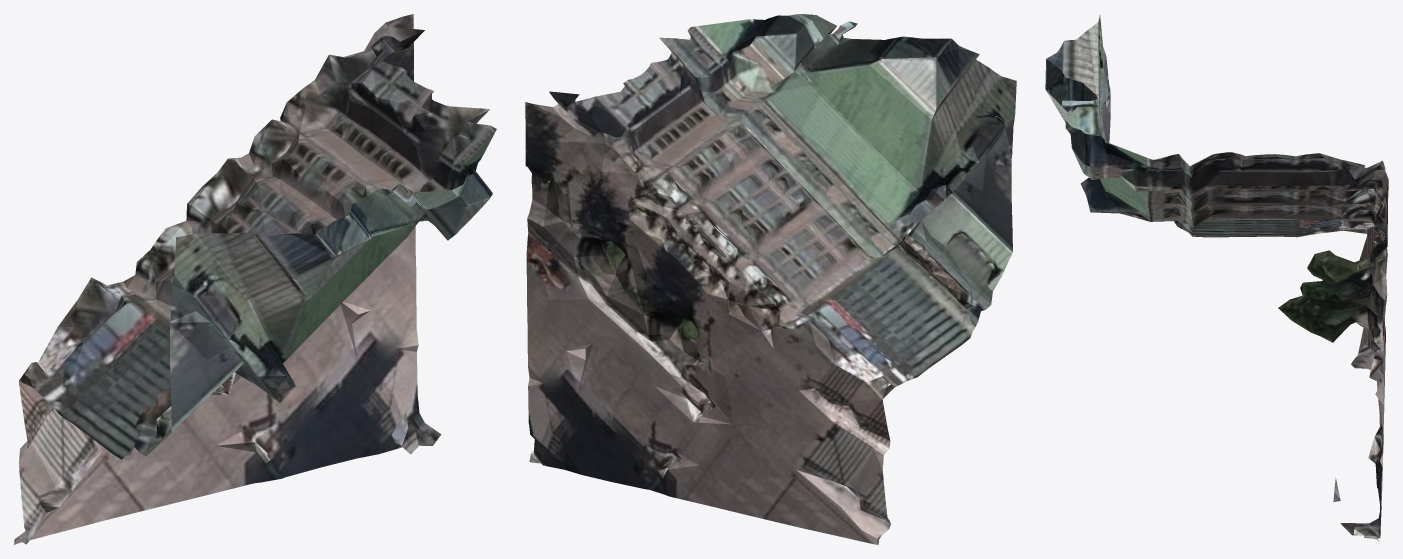
File: Tile_+032_+021_L19_000120.obj
The picture shows the model from 3 angles, left to right: view 1: azimuth 30°, elevation 25°; view 2: azimuth 150°, elevation 25°; view 3: azimuth 270°, elevation 25°; orthographic projection. The views are drawn at different scales.
Size of the model in its own units: 31.75 by 31.75 by 27.28.
Materials: 1 (1 with a texture image).
